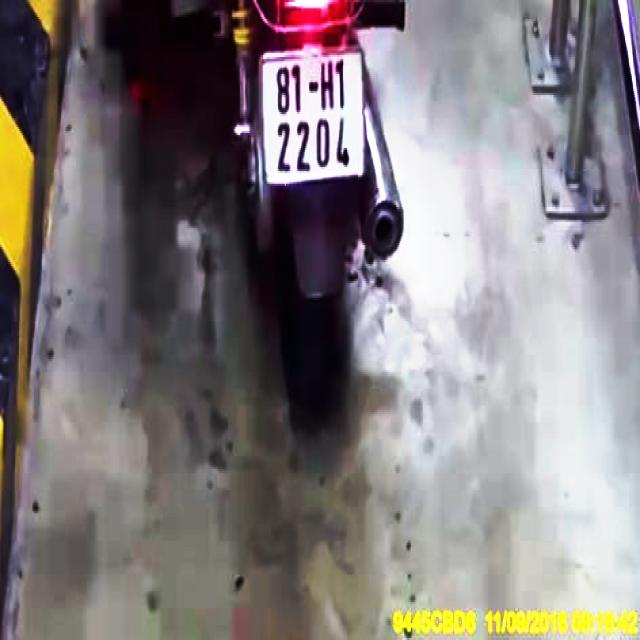license_plate: (262, 49, 365, 184)
